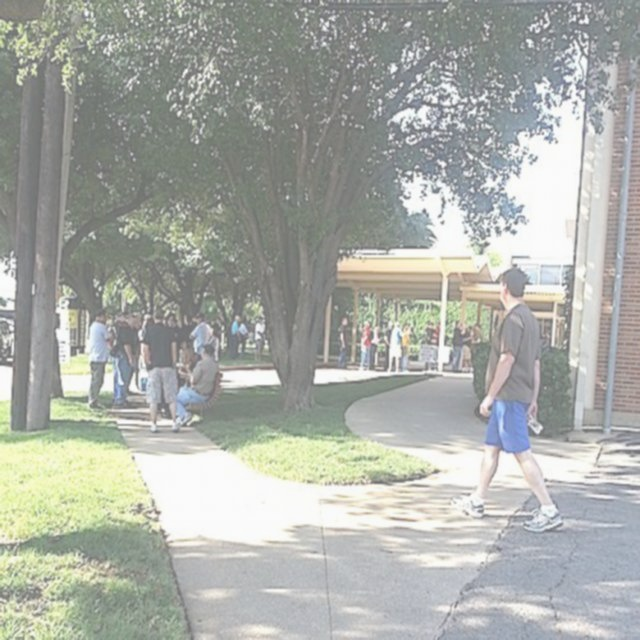pessoa: (449, 261, 566, 538), (142, 306, 182, 434), (172, 342, 220, 428), (85, 306, 116, 414), (109, 312, 141, 411), (187, 310, 215, 364), (176, 343, 203, 393), (105, 312, 128, 362), (449, 316, 468, 373), (163, 310, 183, 363), (468, 322, 486, 376), (385, 319, 402, 373), (357, 319, 373, 373), (366, 324, 383, 372), (382, 318, 396, 373), (336, 314, 350, 368), (398, 321, 412, 374), (252, 313, 266, 363), (210, 313, 223, 363), (462, 324, 475, 374), (229, 313, 241, 363), (254, 314, 266, 362), (236, 316, 248, 357), (424, 318, 441, 344), (187, 312, 200, 332)
